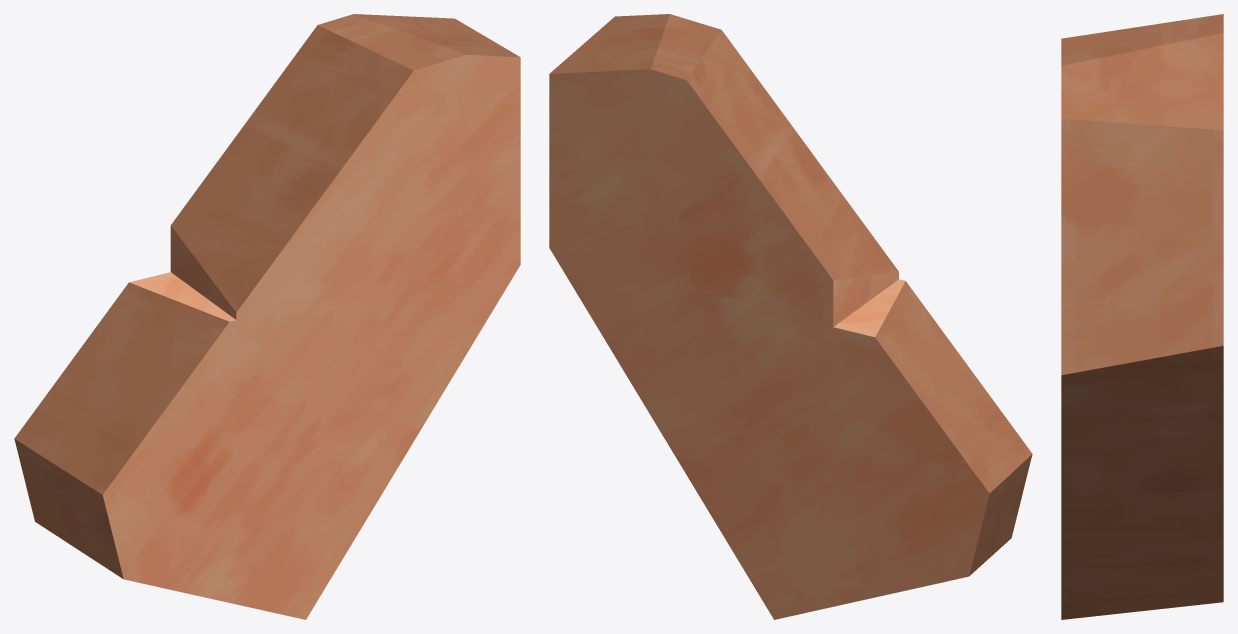
File: wall_upper_window_s09.fbx
3 renders of one model, left to right at view 1: azimuth 30°, elevation 25°; view 2: azimuth 150°, elevation 25°; view 3: azimuth 270°, elevation 25°, orthographic. The views are drawn at different scales.
Parts seen in each view (by area): view 1: wall_upper_window_s09; view 2: wall_upper_window_s09; view 3: wall_upper_window_s09.
Part boxes in pixels (x1,y1,x2,y2): wall_upper_window_s09: (14, 14, 520, 619); wall_upper_window_s09: (549, 14, 1032, 619); wall_upper_window_s09: (1061, 14, 1223, 619).
Bounding box in the file's own units: 3.88 × 4.46 × 1.
